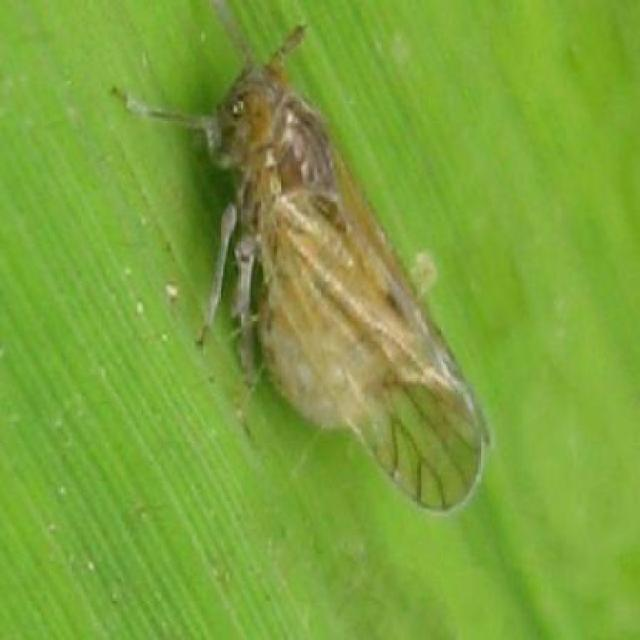brown-planthopper: (208, 57, 490, 517)
